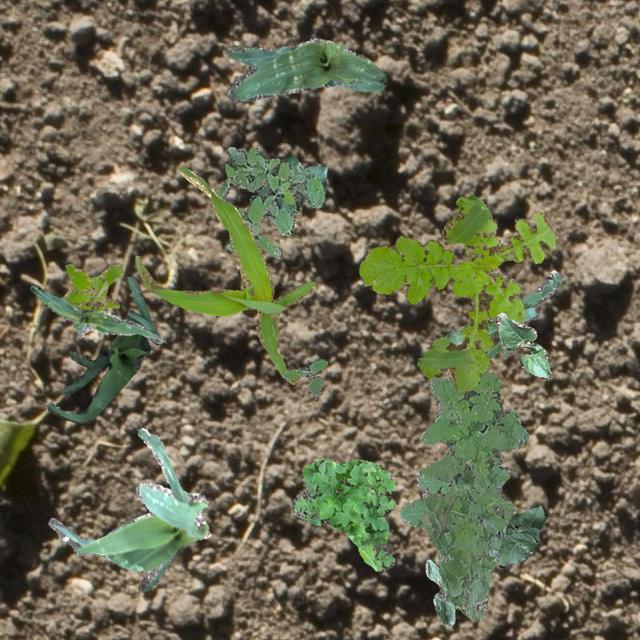crop: (133, 165, 314, 382), (48, 428, 208, 590), (46, 276, 158, 424), (444, 270, 564, 358), (222, 38, 384, 100), (29, 284, 162, 342), (258, 156, 326, 212), (496, 312, 550, 378), (498, 502, 544, 568), (424, 558, 454, 626)
weed: (358, 195, 558, 392), (398, 370, 528, 620), (214, 146, 326, 258), (290, 458, 394, 570), (62, 262, 122, 310), (282, 358, 326, 398)
